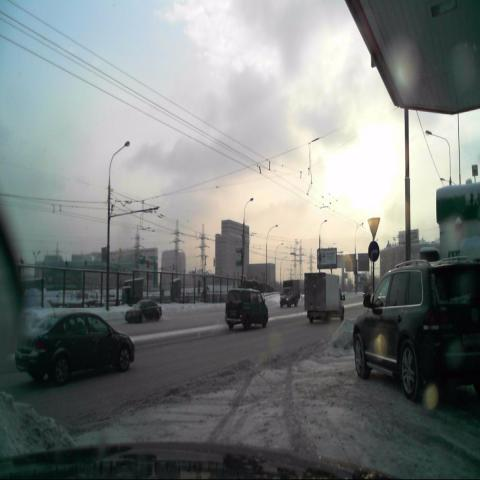4_1_2: (368, 238, 379, 260)
